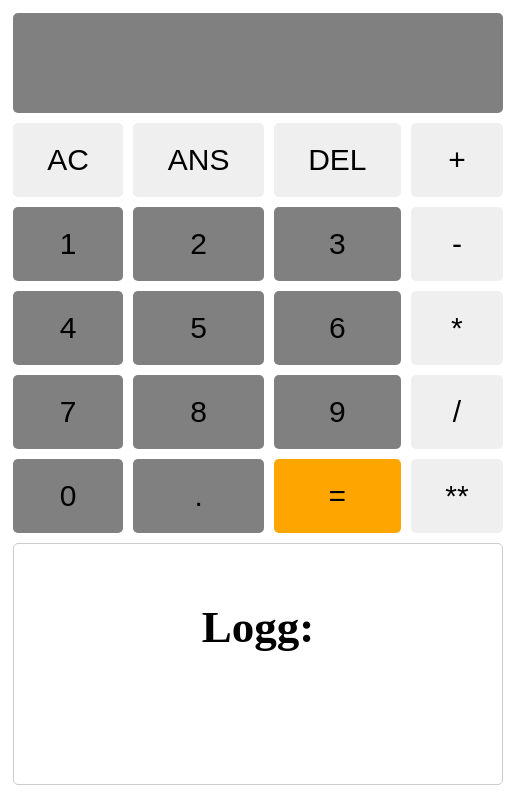
Test case: Calculator › divide by zero
Click the button with class "area9" at {"x": 199, "y": 328}, box [133,291,264,365]
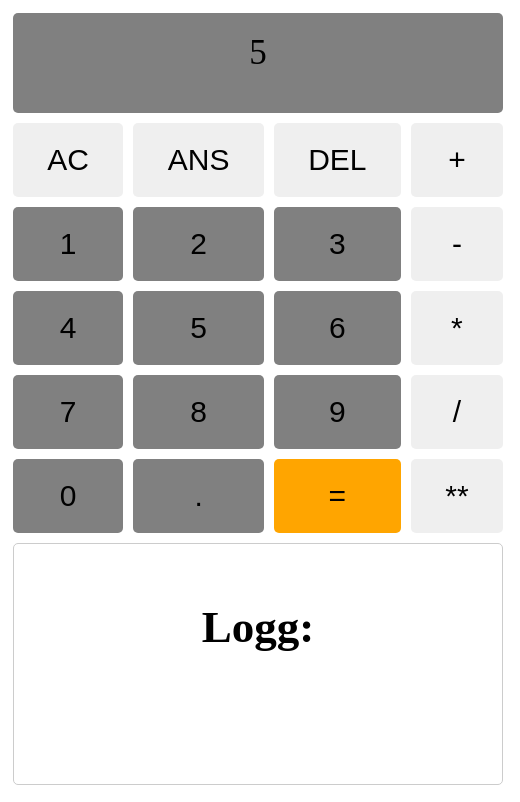
Click the button "/" at {"x": 457, "y": 412}, box [411,375,503,449]
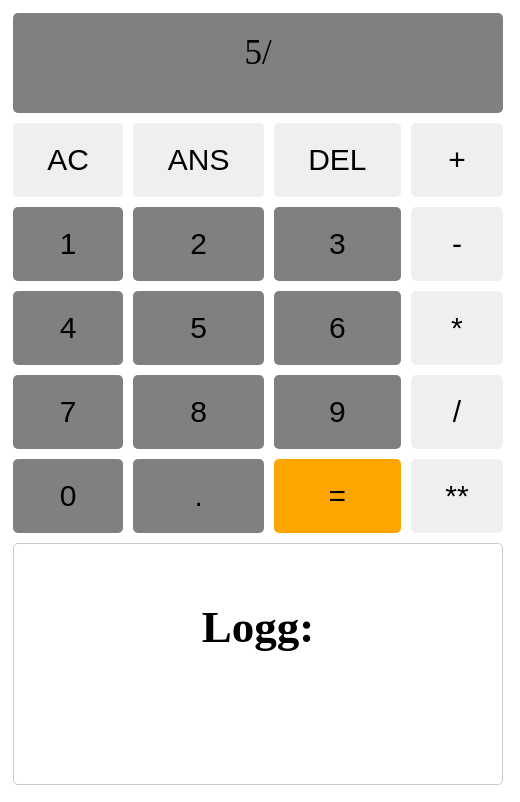
Click the button with class "area16" at {"x": 68, "y": 496}, box [13,459,123,533]
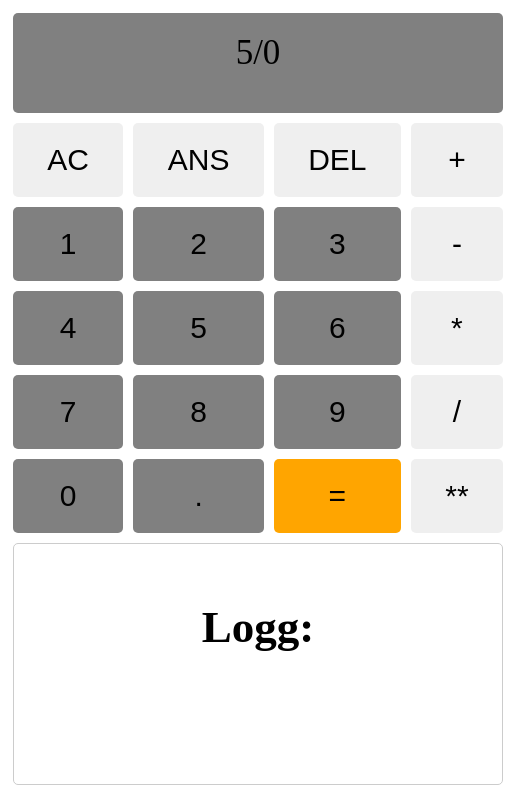
Click the button with class "area18" at {"x": 337, "y": 496}, box [274,459,401,533]
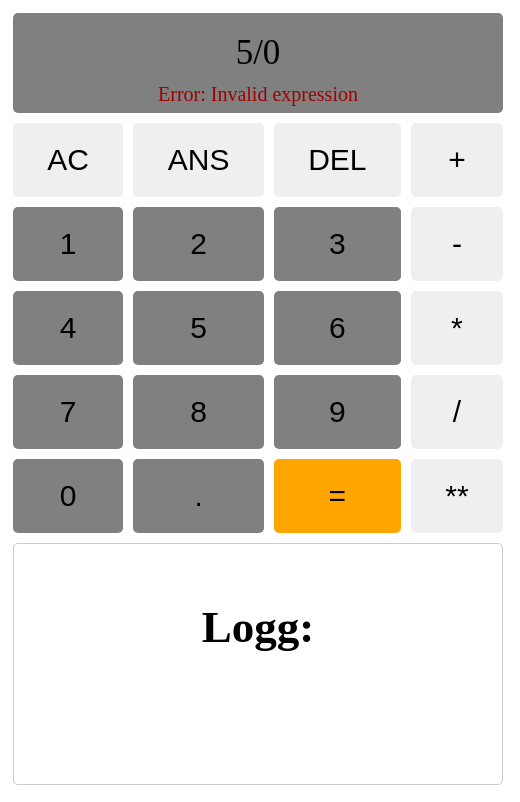
expect the text "Error: Invalid expression" is shown: met, box [158,83,358,105]
